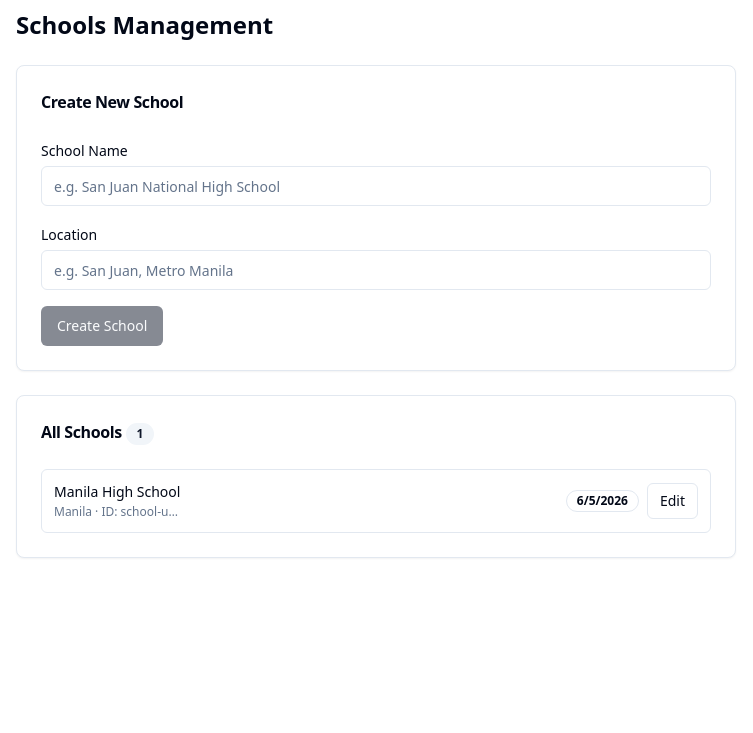
SchoolsManagementPage › cancels edit and returns to row view
The image size is (753, 733).
Expected: the text "Manila High School" is shown, [54,482,180,502]
Click the button "Edit".
click(672, 501)  # box [647,483,698,519]
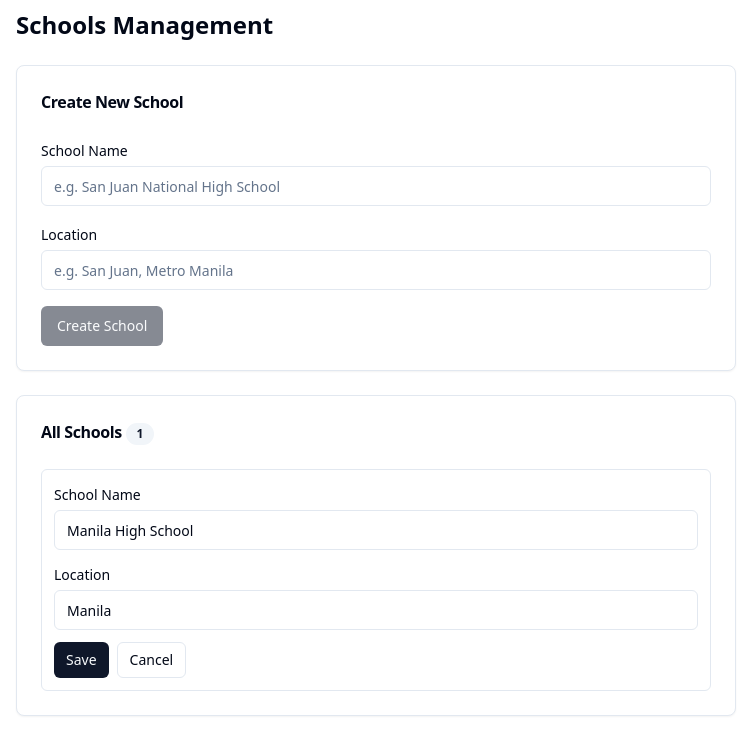
Click the button "Cancel".
click(151, 660)  # box [117,642,186,678]
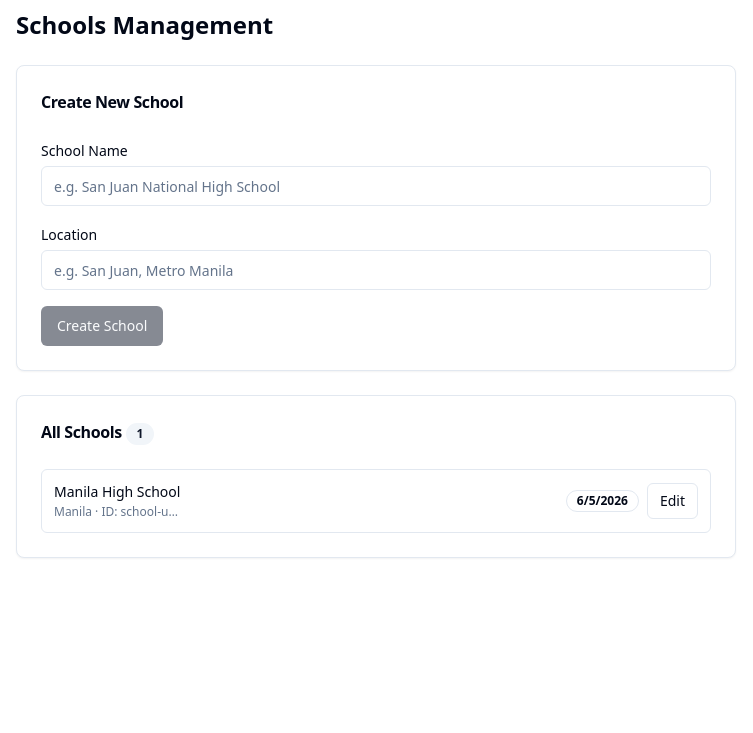
Now the button "Edit" is shown, box [647,483,698,519]
